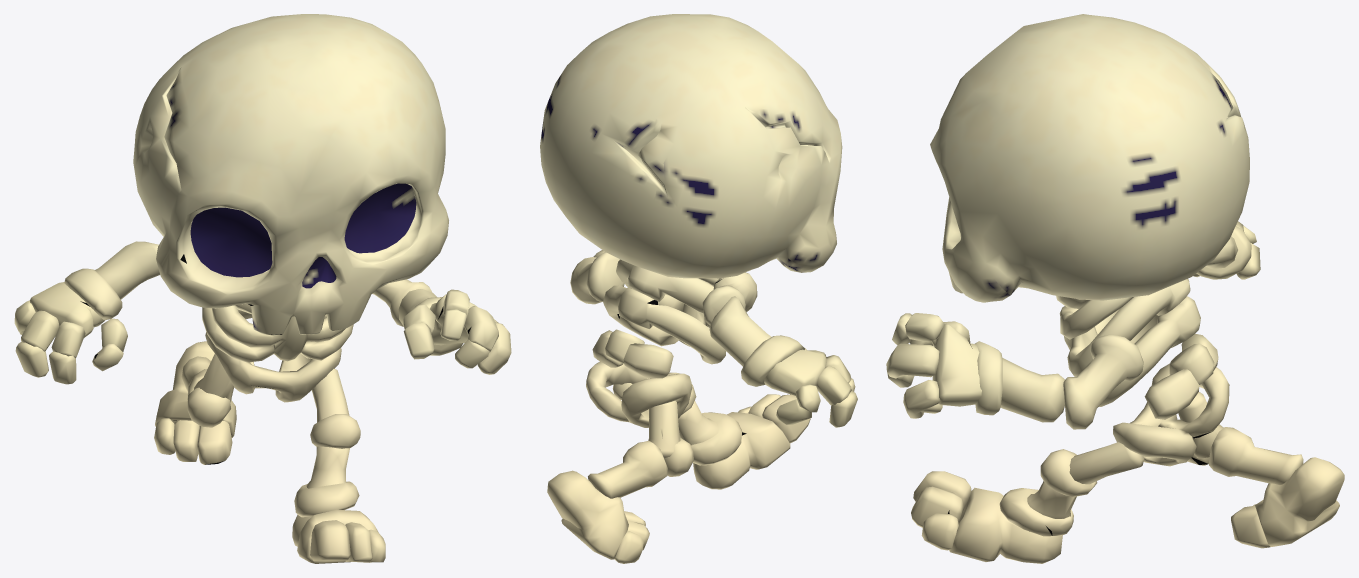
The model's file is kit-skeleton.glb.
The picture shows the model from 3 angles, left to right: view 1: azimuth 30°, elevation 25°; view 2: azimuth 150°, elevation 25°; view 3: azimuth 270°, elevation 25°; orthographic projection. The views are drawn at different scales.
Parts seen in each view (by area): view 1: WBA_Character_Skeleton_01_WBA_MAT_Halloween_Atlas_0.001; view 2: WBA_Character_Skeleton_01_WBA_MAT_Halloween_Atlas_0.001; view 3: WBA_Character_Skeleton_01_WBA_MAT_Halloween_Atlas_0.001.
Part boxes in pixels (x1,y1,x2,y2): WBA_Character_Skeleton_01_WBA_MAT_Halloween_Atlas_0.001: (14,14,511,563); WBA_Character_Skeleton_01_WBA_MAT_Halloween_Atlas_0.001: (540,14,857,563); WBA_Character_Skeleton_01_WBA_MAT_Halloween_Atlas_0.001: (886,14,1344,563).
Size of the model in its own units: 1.1 by 1.44 by 1.14.
Materials: 1 (1 with a texture image).
